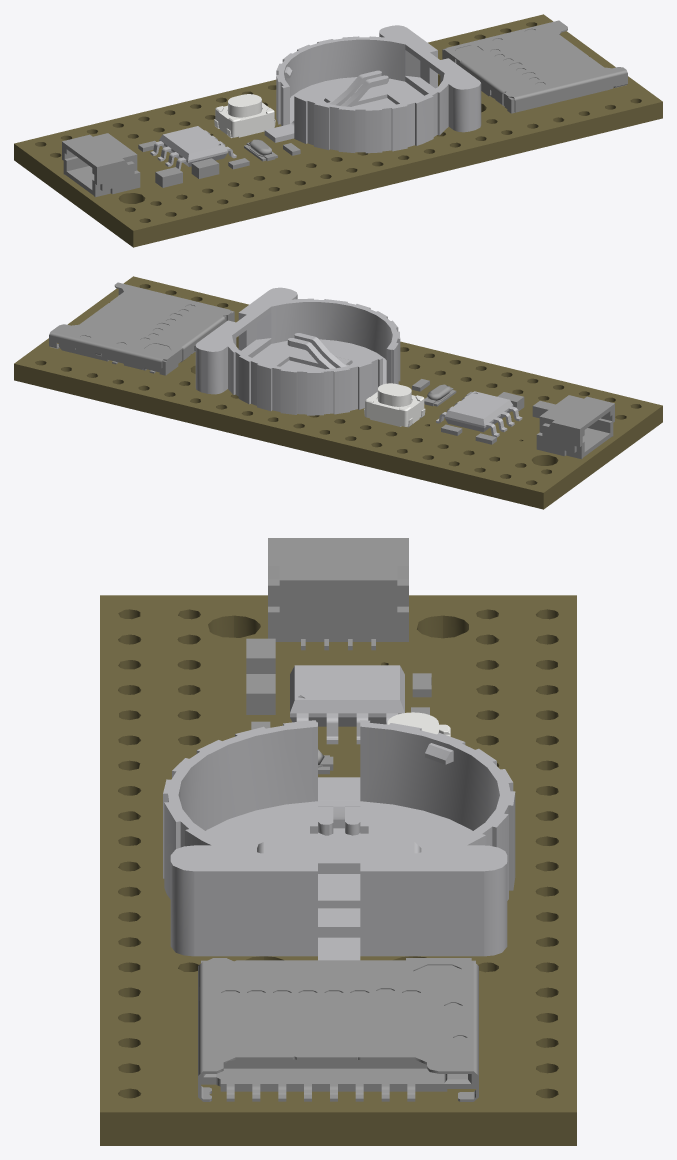
File: ada-5703.glb
The picture shows the model from 3 angles, top to bottom: view 1: azimuth 30°, elevation 25°; view 2: azimuth 150°, elevation 25°; view 3: azimuth 270°, elevation 25°; orthographic projection. The views are drawn at different scales.
Parts seen in each view (by area): view 1: 0.16666666666666666_0.16666666666666666_0.08333333333333333_, 0.5833333333333334_0.5833333333333334_0.5833333333333334_0.8, 0.3333333333333333_0.3333333333333333_0.3333333333333333_0, 0.9166666666666666_0.9166666666666666_0.9166666666666666_0.8; view 2: 0.16666666666666666_0.16666666666666666_0.08333333333333333_, 0.5833333333333334_0.5833333333333334_0.5833333333333334_0.8, 0.3333333333333333_0.3333333333333333_0.3333333333333333_0, 0.9166666666666666_0.9166666666666666_0.9166666666666666_0.8; view 3: 0.16666666666666666_0.16666666666666666_0.08333333333333333_, 0.5833333333333334_0.5833333333333334_0.5833333333333334_0.8, 0.3333333333333333_0.3333333333333333_0.3333333333333333_0.
Part boxes in pixels (<box>): 0.16666666666666666_0.16666666666666666_0.08333333333333333_: <box>14,14,662,247</box>; 0.5833333333333334_0.5833333333333334_0.5833333333333334_0.8: <box>150,25,481,169</box>; 0.3333333333333333_0.3333333333333333_0.3333333333333333_0: <box>62,20,627,197</box>; 0.9166666666666666_0.9166666666666666_0.9166666666666666_0.8: <box>214,94,275,138</box>; 0.16666666666666666_0.16666666666666666_0.08333333333333333_: <box>14,276,662,509</box>; 0.5833333333333334_0.5833333333333334_0.5833333333333334_0.8: <box>195,287,522,437</box>; 0.3333333333333333_0.3333333333333333_0.3333333333333333_0: <box>49,282,614,459</box>; 0.9166666666666666_0.9166666666666666_0.9166666666666666_0.8: <box>364,383,425,427</box>; 0.16666666666666666_0.16666666666666666_0.08333333333333333_: <box>100,595,576,1145</box>; 0.5833333333333334_0.5833333333333334_0.5833333333333334_0.8: <box>163,665,515,960</box>; 0.3333333333333333_0.3333333333333333_0.3333333333333333_0: <box>198,538,478,1101</box>.
Bounding box in the file's own units: 5.21 × 0.5571 × 2.03.
